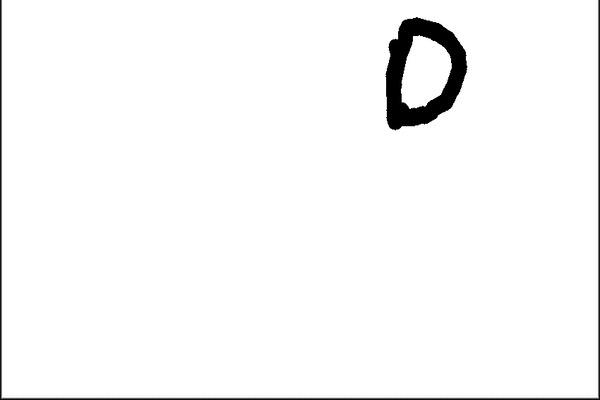D: (371, 13, 477, 141)
